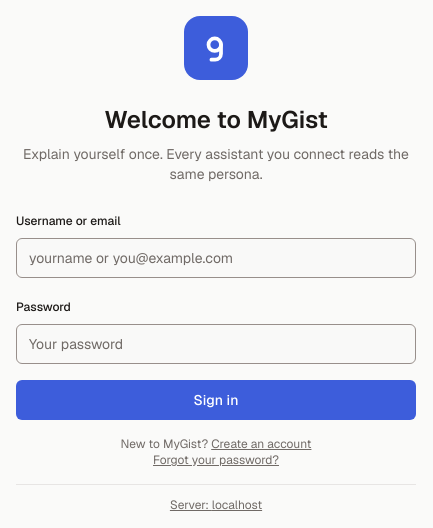
Test case: forgotten password › asks for the email rather than the username
The width and height of the screenshot is (433, 528).
Click the button "Forgot your password?": click(216, 460) [153, 452, 279, 468]
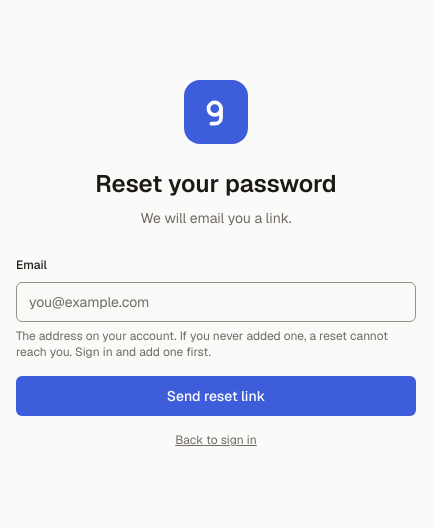
Expected: the field labelled "Email" is shown, [16, 282, 416, 322]
